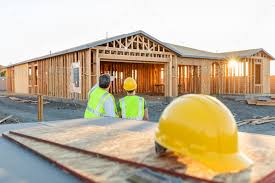helmet: (158, 99, 248, 169), (124, 77, 137, 91)
vest: (89, 88, 113, 118), (121, 98, 144, 121)
